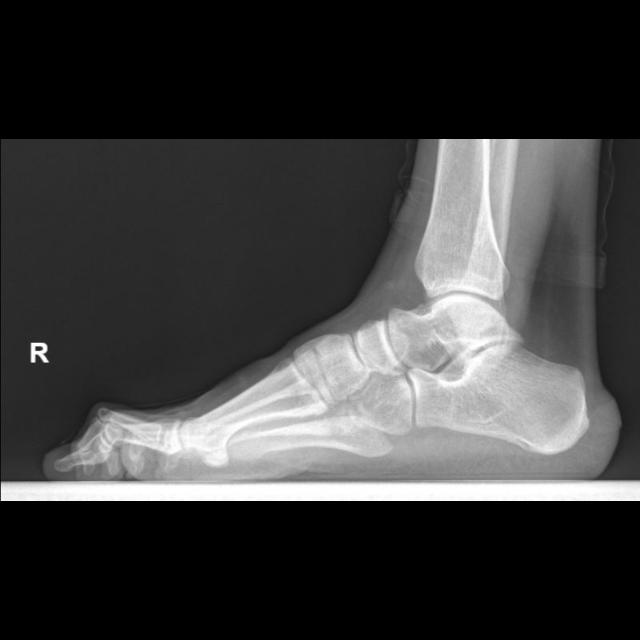a: (408, 342, 589, 455)
b: (354, 321, 404, 375)
c: (180, 362, 321, 468)
